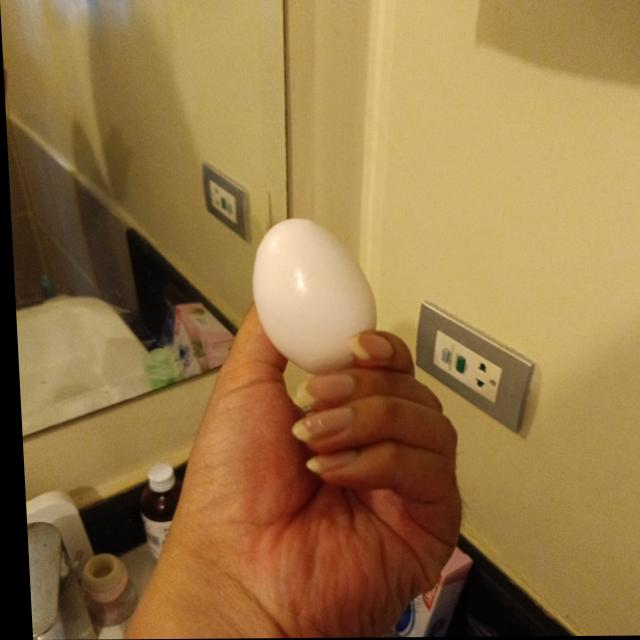egg: (249, 219, 375, 364)
